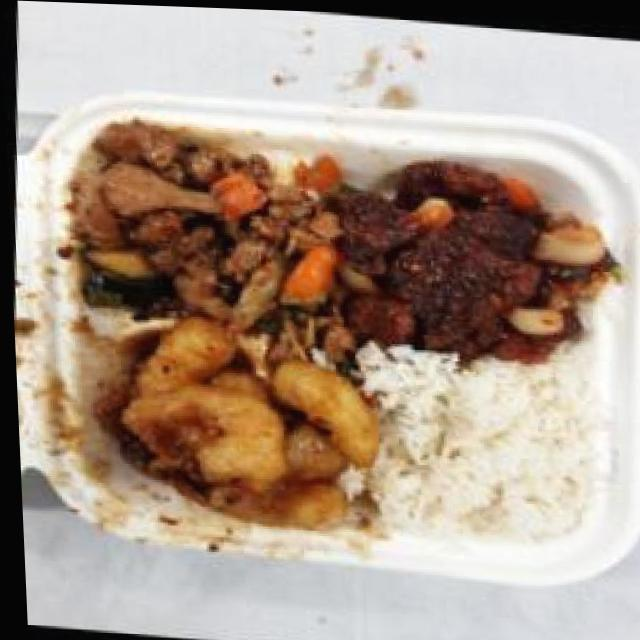Beijing Beef: (322, 144, 617, 368)
Honey Walnut Shrimp: (91, 310, 383, 539)
Kung Pao Chicken: (41, 109, 357, 351)
White Steamed Rice: (362, 345, 601, 545)
